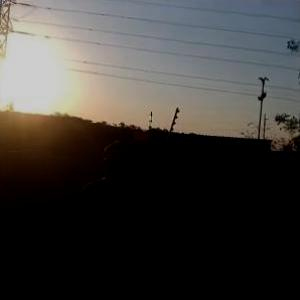follow: (69, 136, 150, 299)
